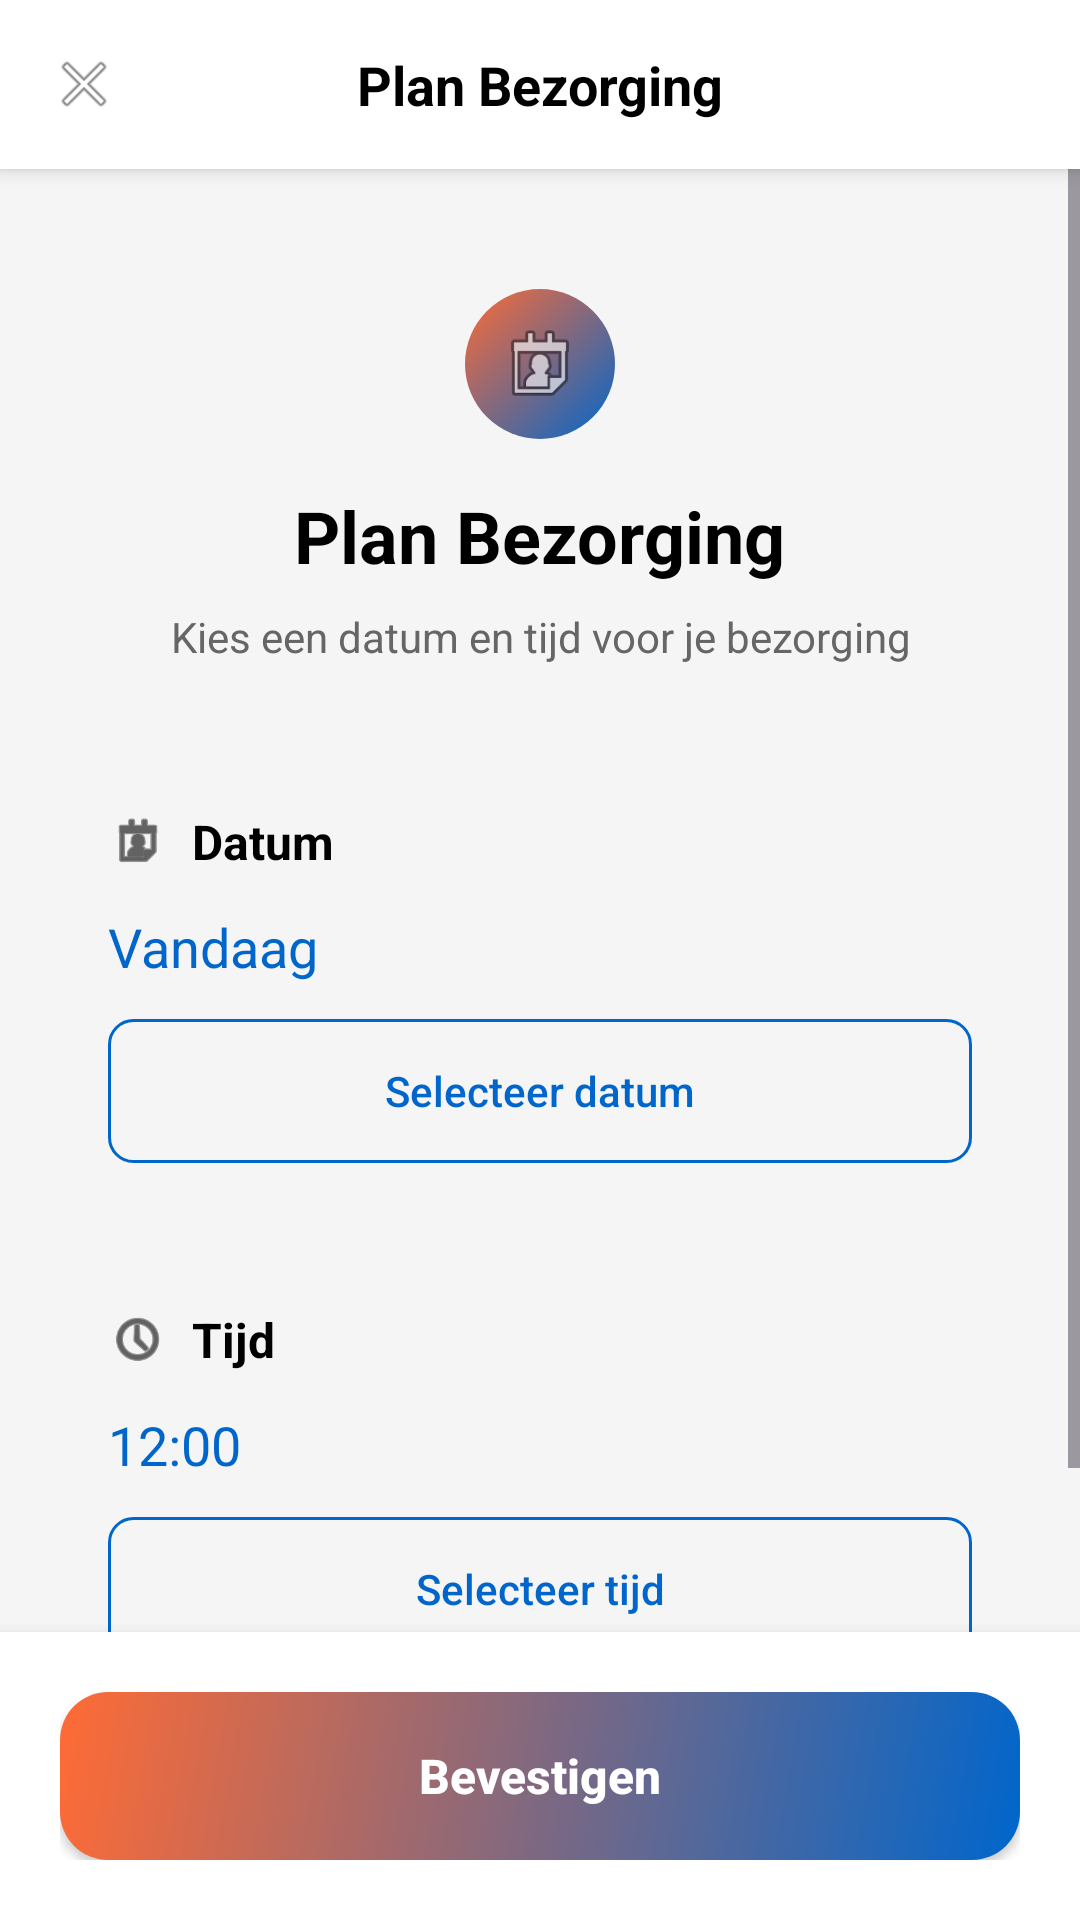

Icons on this 1080×1920 Android screen, each with its box as BBox(x1, y1, x2, y2):
Annuleren: BBox(61, 61, 107, 107)
Kalender: BBox(465, 289, 615, 439)
